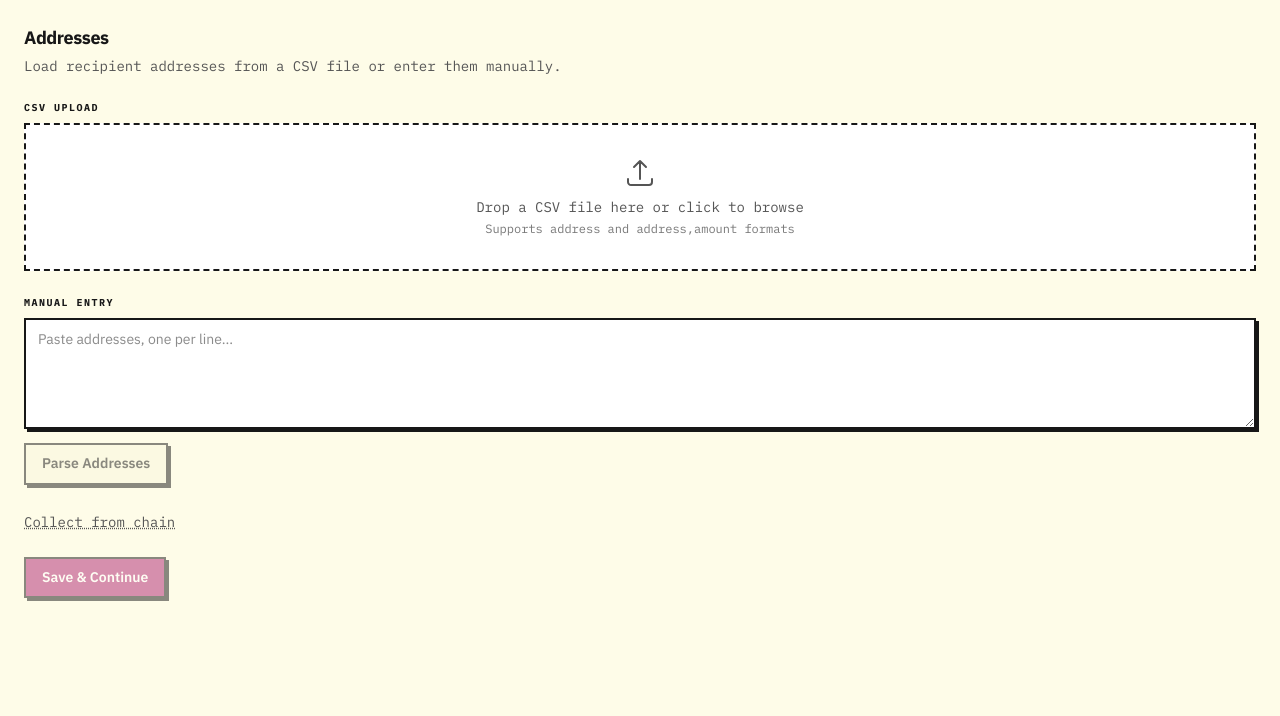
Test: AddressesStep › toggles back to hide text when expanded
Click the button "Collect from chain". click: (100, 522)
box: [24,512,175,532]
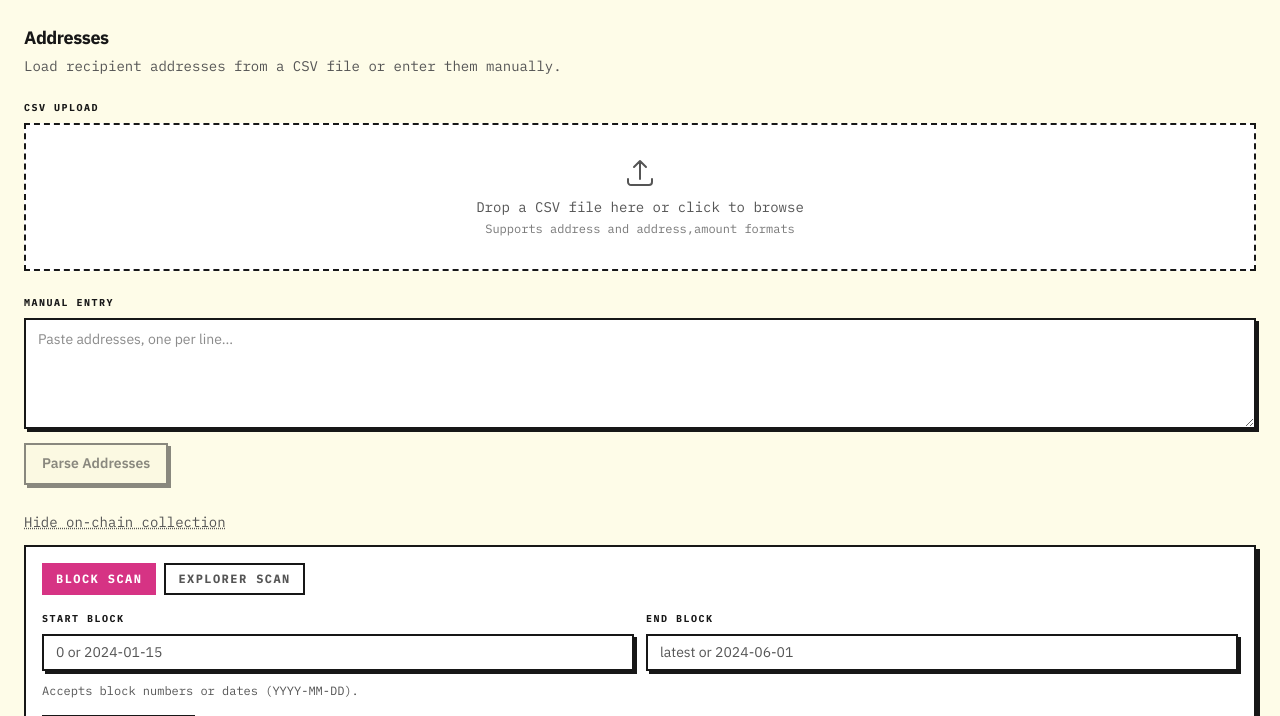
Expected: the button "Hide on-chain collection" is shown
Click the button "Hide on-chain collection". click: (125, 522)
box: [24,512,226,532]
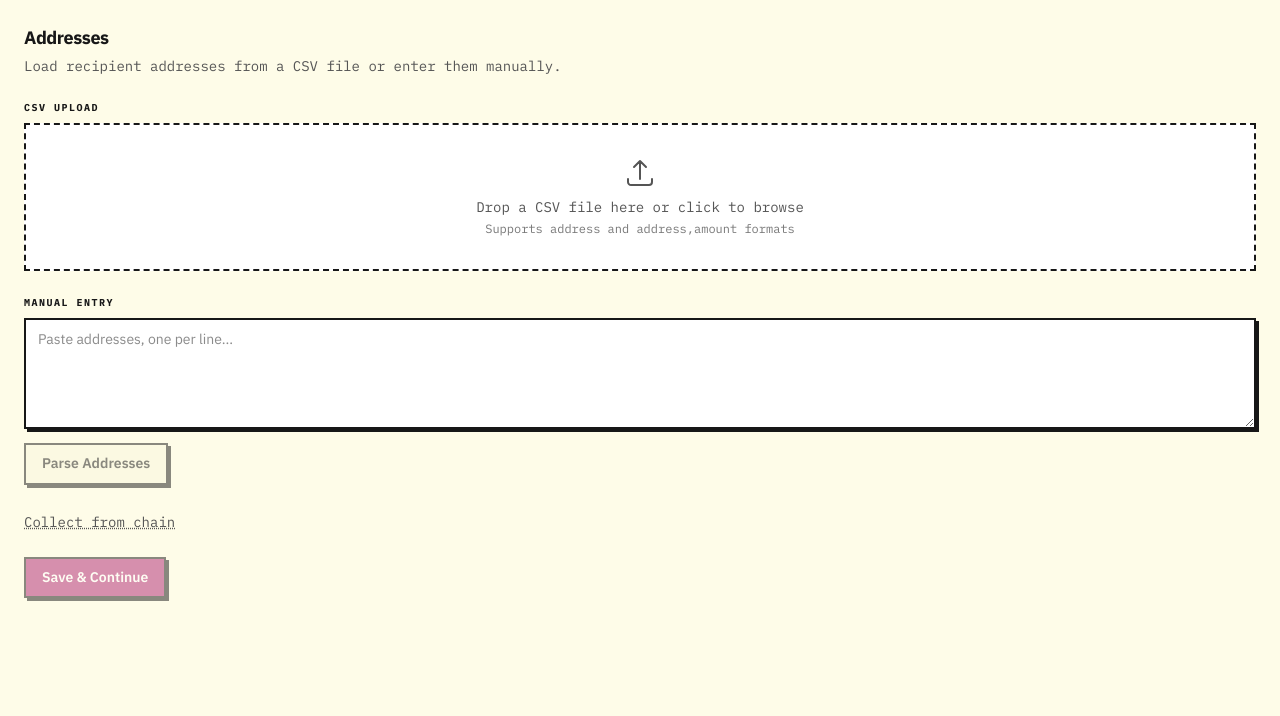
Expected: the button "Collect from chain" is shown, [24,512,175,532]
